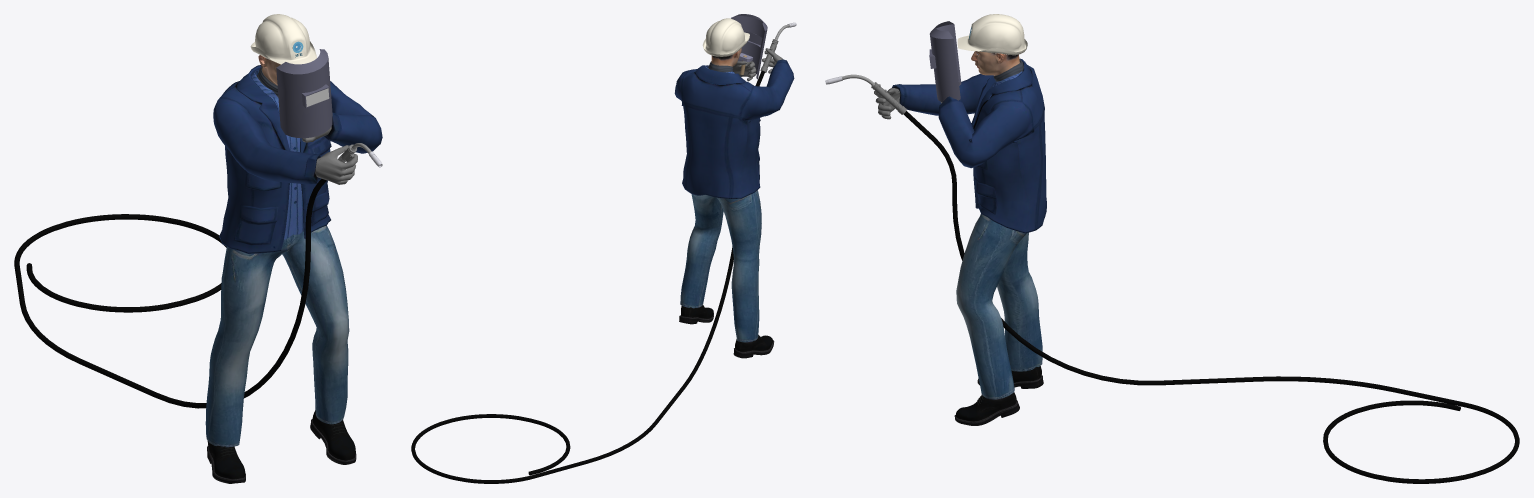
File: worker-welder.glb
The picture shows the model from 3 angles, left to right: view 1: azimuth 30°, elevation 25°; view 2: azimuth 150°, elevation 25°; view 3: azimuth 270°, elevation 25°; orthographic projection. The views are drawn at different scales.
Visible parts, largest first — view 1: FbxMesh (×6); view 2: FbxMesh (×6); view 3: FbxMesh (×6).
Part boxes in pixels (<box>): FbxMesh (×6): <box>14,14,382,483</box>; FbxMesh (×6): <box>411,14,794,483</box>; FbxMesh (×6): <box>892,14,1519,483</box>.
Size of the model in its own units: 1.05 by 1.81 by 2.89.
20 materials, 6 textured.
